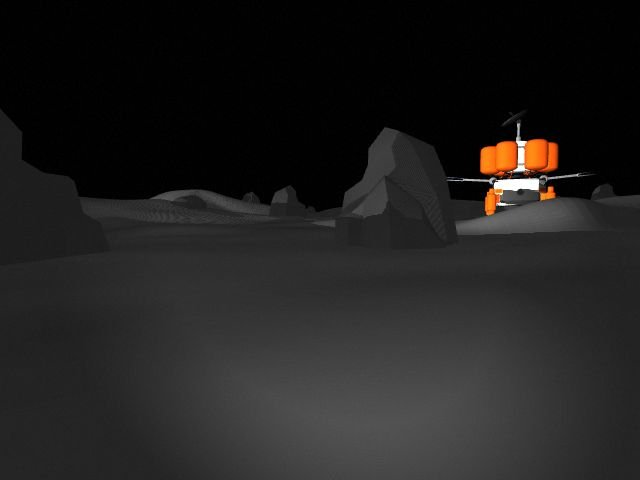homebase: (439, 102, 606, 223)
